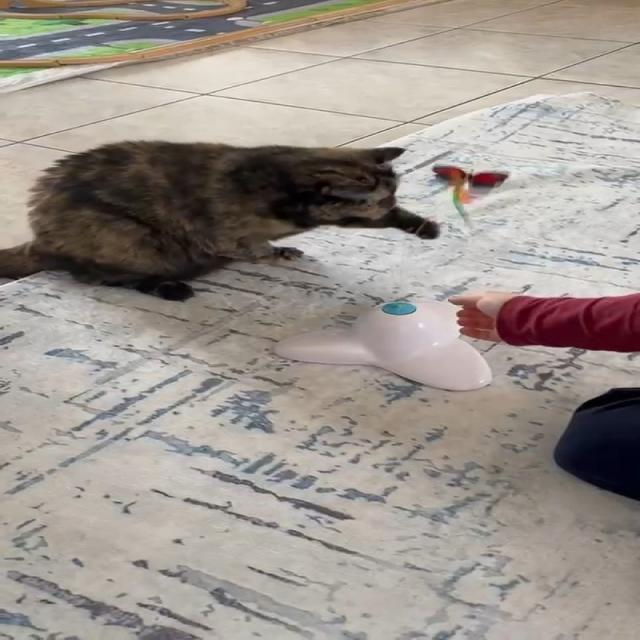authorized: (0, 138, 440, 302)
